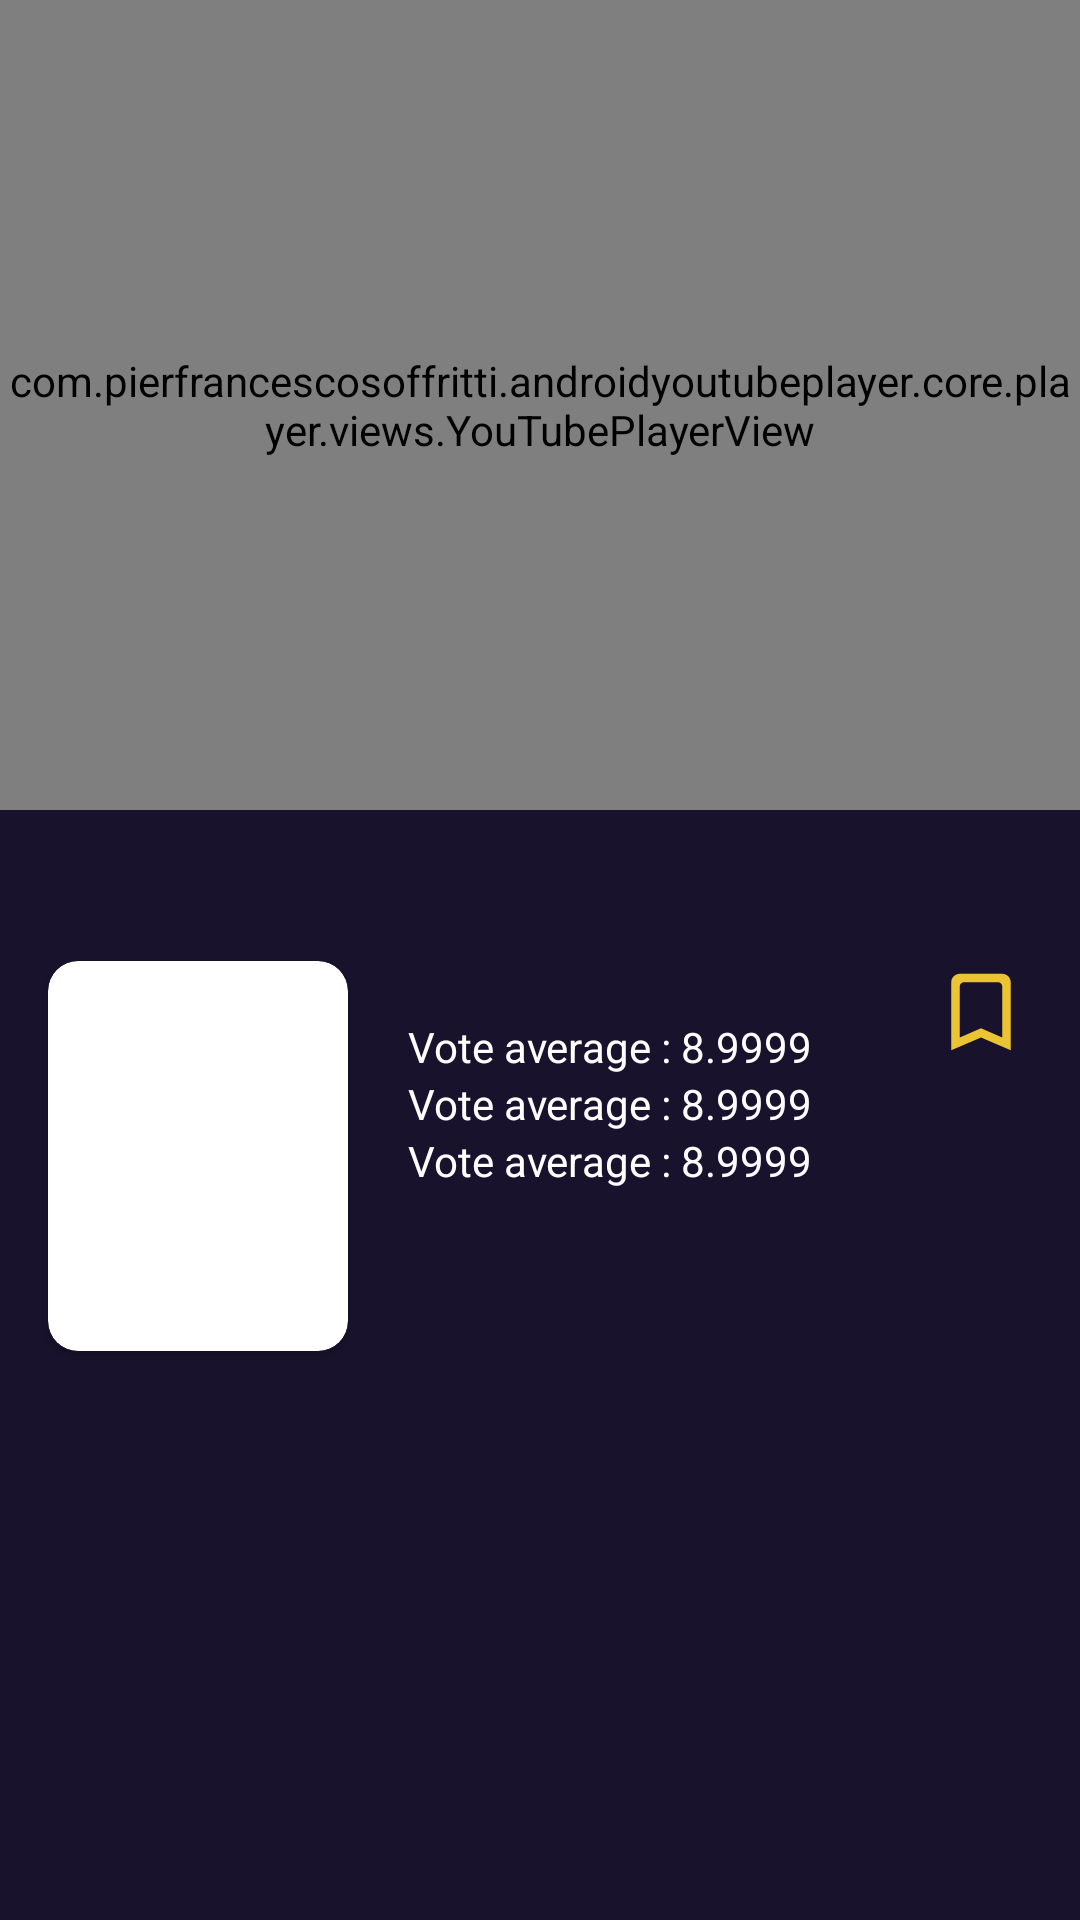

Screen size 1080px×1920px. Icon name, then its box in pixels as [x1, y1, x2, y2]:
bookmark border: [951, 973, 1011, 1050]
